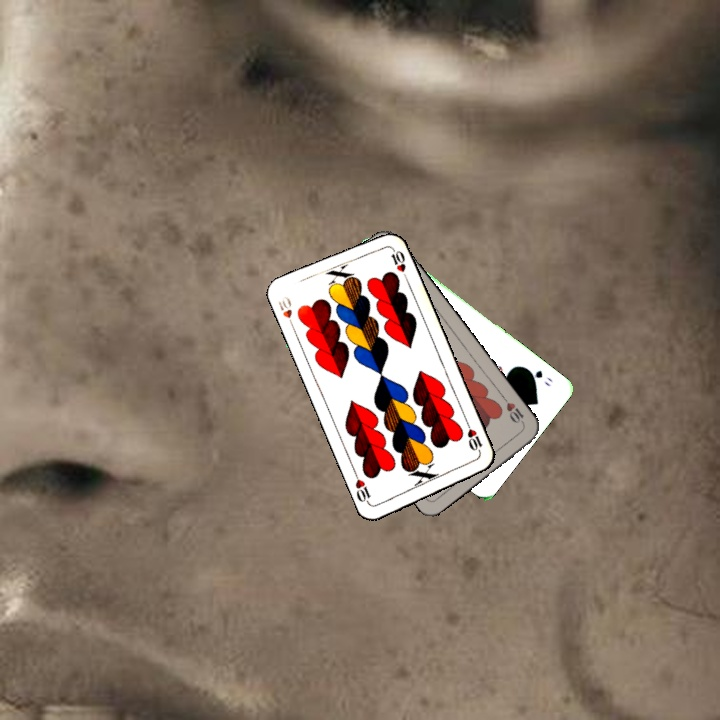GO: (521, 364, 555, 389)
H10: (499, 393, 527, 428), (274, 292, 297, 332), (462, 419, 485, 458)
